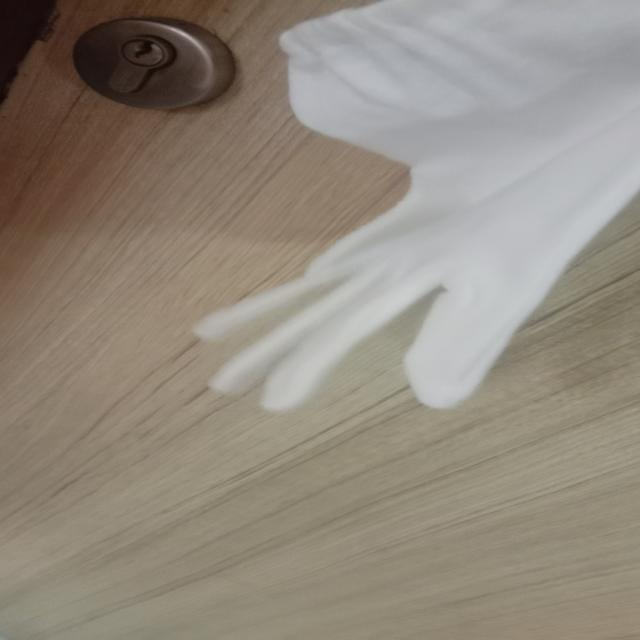glove: (186, 1, 632, 411)
